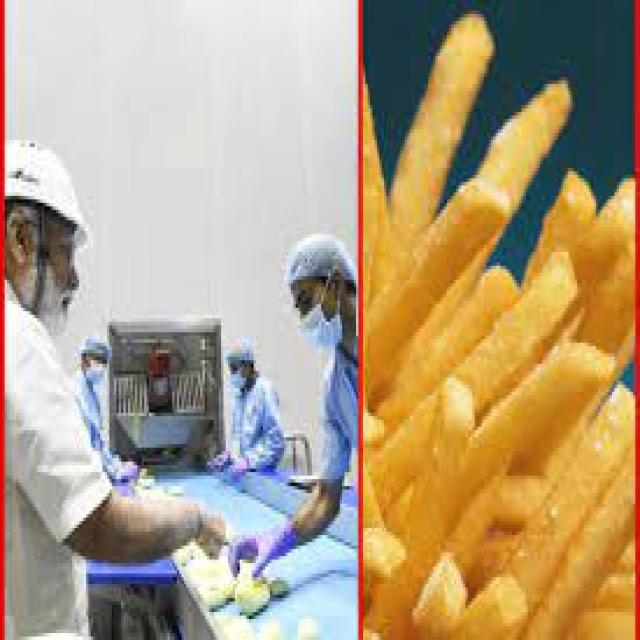Fries: (366, 43, 640, 622)
